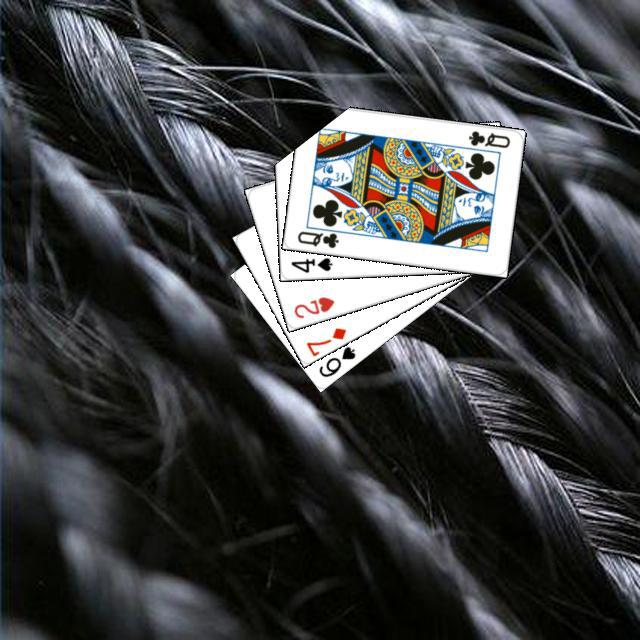2h: (289, 292, 336, 320)
4s: (286, 253, 334, 275)
6s: (314, 341, 358, 379)
7d: (301, 322, 348, 357)
Qc: (292, 220, 346, 250), (464, 126, 512, 150)
